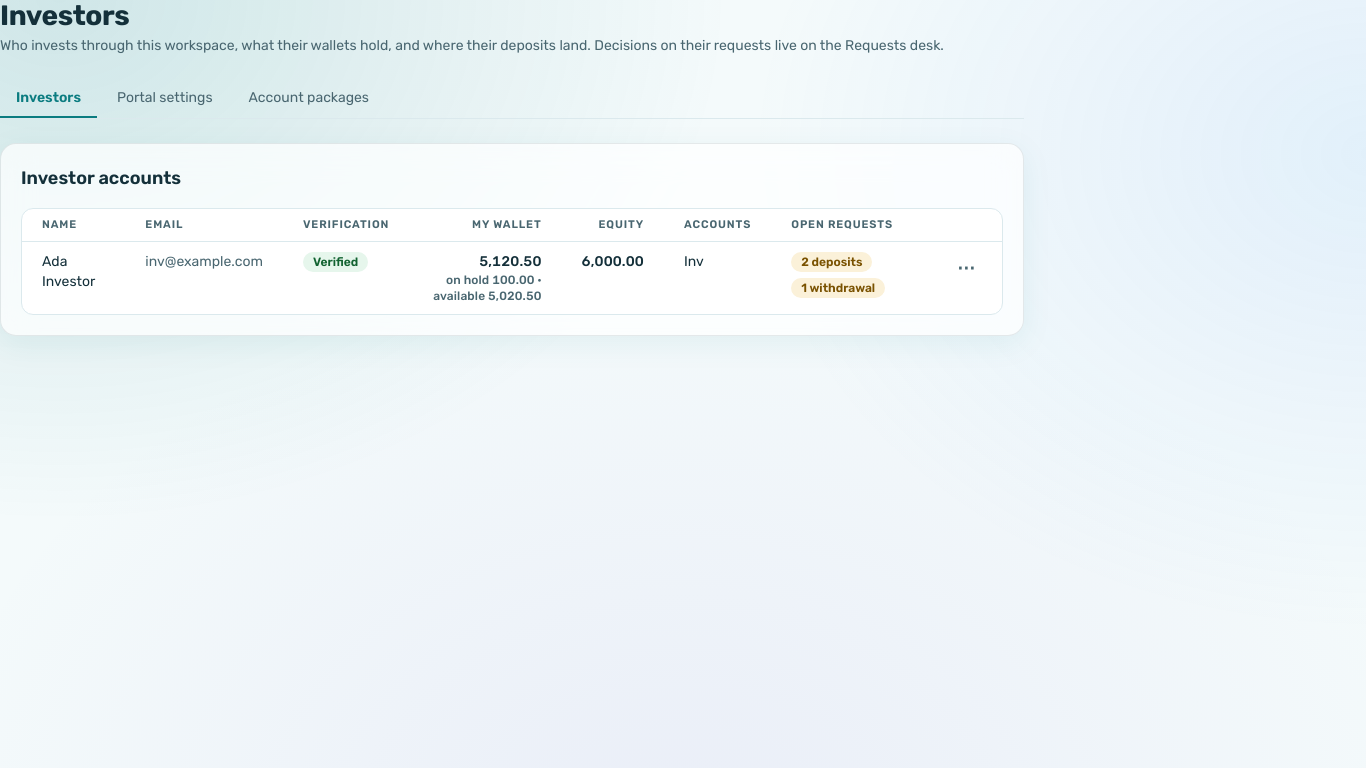
the server's refusal to link is shown inside the accounts drawer, not the page banner
Expected: the text "Ada Investor" is shown, [22,241,125,314]
Click the button named "Actions for inv@example.com": (966, 268) [950,252,982,284]
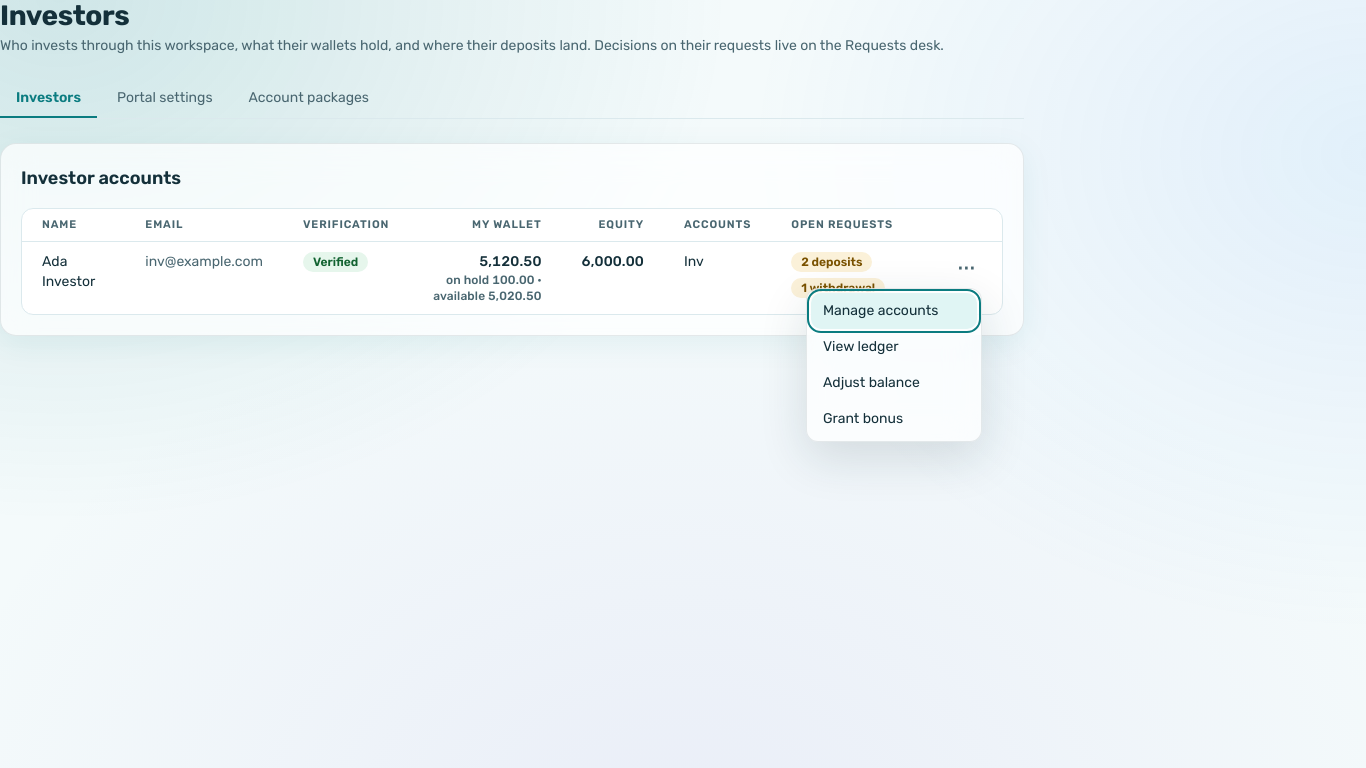
Click the menu item "Manage accounts": (894, 311) [811,293,977,329]
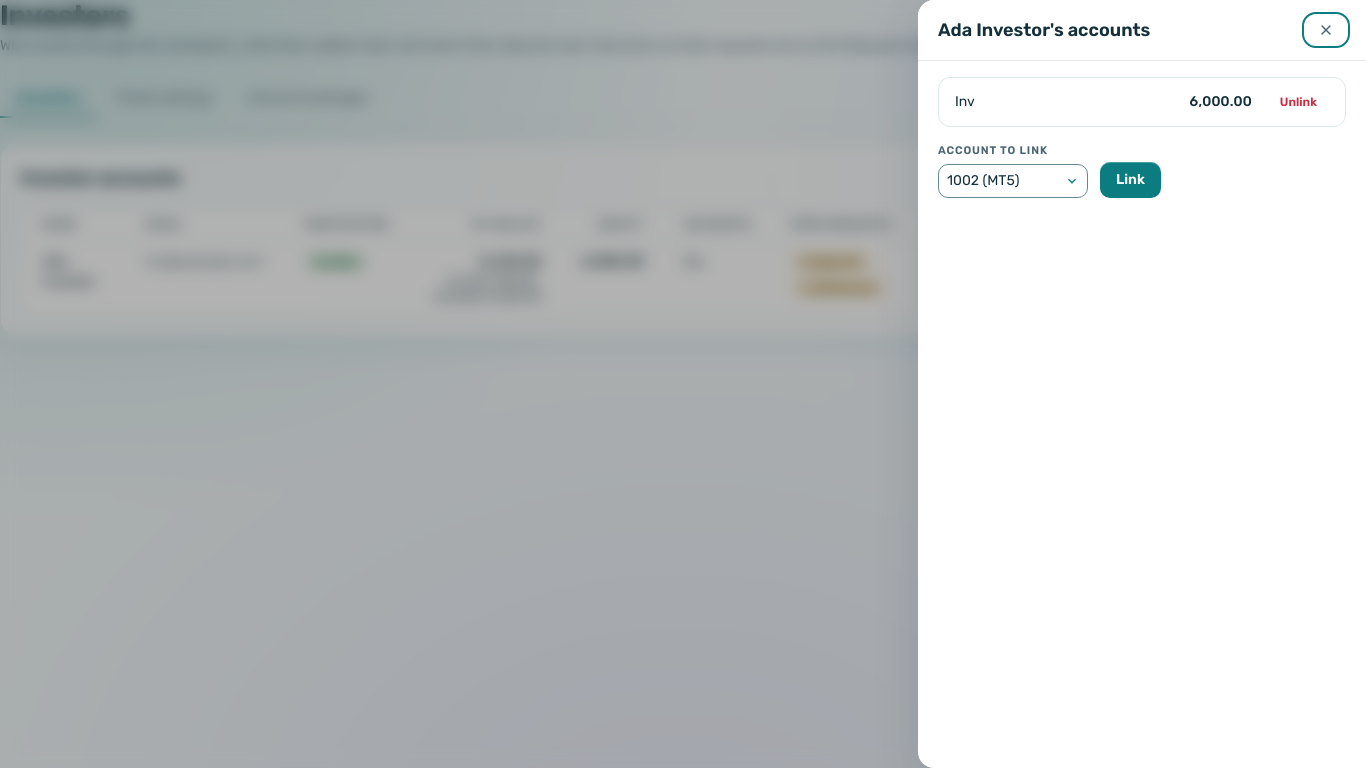
Click the button "Link": (1130, 180) [1100,162,1161,198]
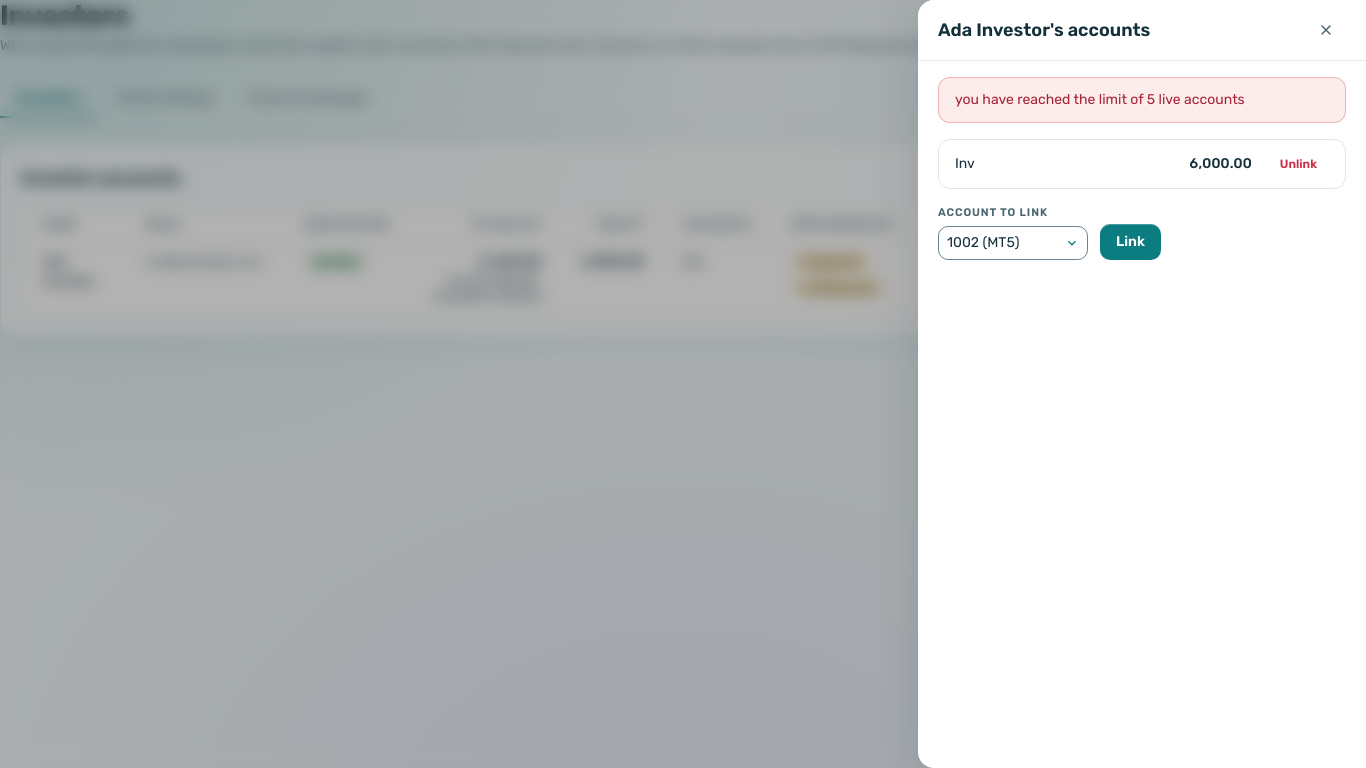
Expected: the dialog "Ada Investor's accounts" is shown, [918,0,1365,767]
Expected: the message reads "you have reached the limit of 5 live accounts", [955,91,1245,108]
